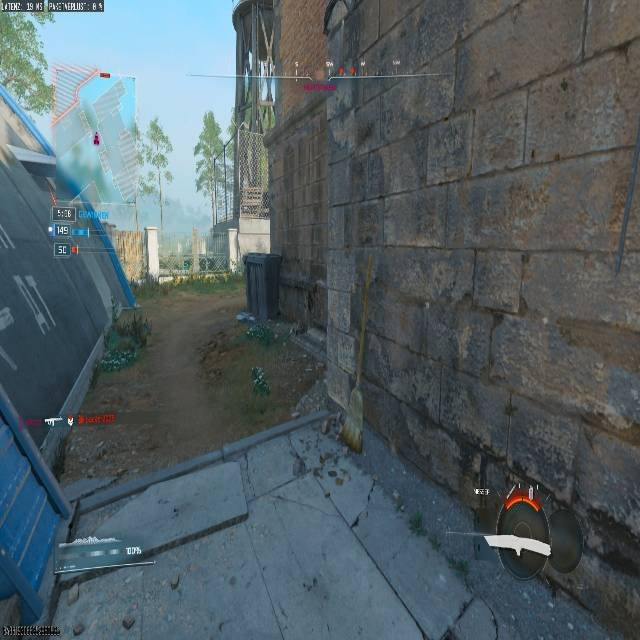player: (182, 257, 190, 271)
